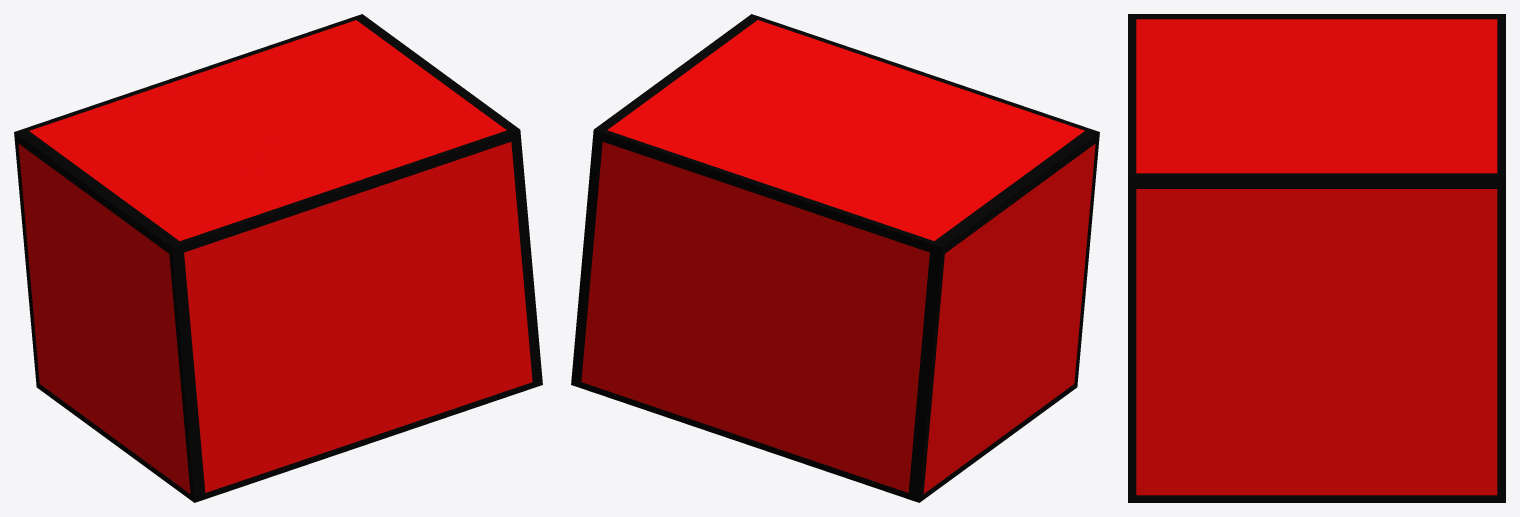
Rendered from playerhead.fbx.
The picture shows the model from 3 angles, left to right: view 1: azimuth 30°, elevation 25°; view 2: azimuth 150°, elevation 25°; view 3: azimuth 270°, elevation 25°; orthographic projection. The views are drawn at different scales.
Visible parts, largest first — view 1: 球.001; view 2: 球.001; view 3: 球.001.
Part boxes in pixels (x1=…): 球.001: x1=14, y1=14, x2=542, y2=502; 球.001: x1=571, y1=14, x2=1099, y2=502; 球.001: x1=1128, y1=14, x2=1505, y2=502.
Size of the model in its own units: 273 by 207 by 202.
